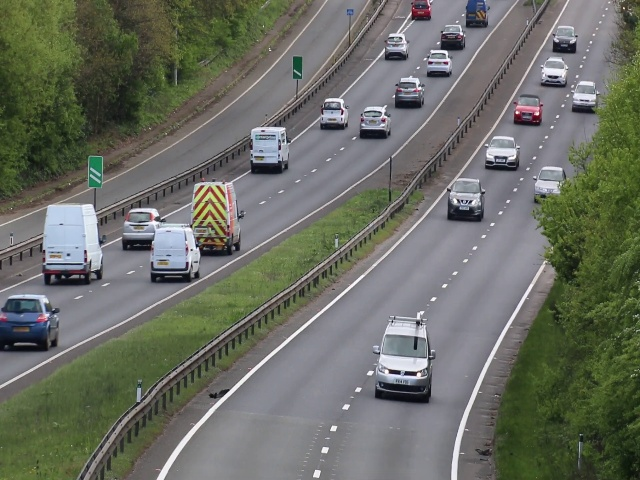car: (41, 203, 102, 287), (374, 321, 430, 399), (190, 179, 242, 254), (1, 290, 62, 351), (148, 227, 203, 282), (249, 125, 292, 175), (123, 206, 166, 251), (446, 179, 486, 220), (485, 135, 521, 172), (533, 166, 566, 203), (359, 106, 390, 139), (513, 94, 542, 127), (395, 77, 425, 108), (572, 80, 599, 113), (321, 97, 348, 130), (540, 56, 567, 88), (383, 32, 412, 61), (426, 49, 452, 77), (552, 24, 577, 53), (440, 22, 465, 50)
